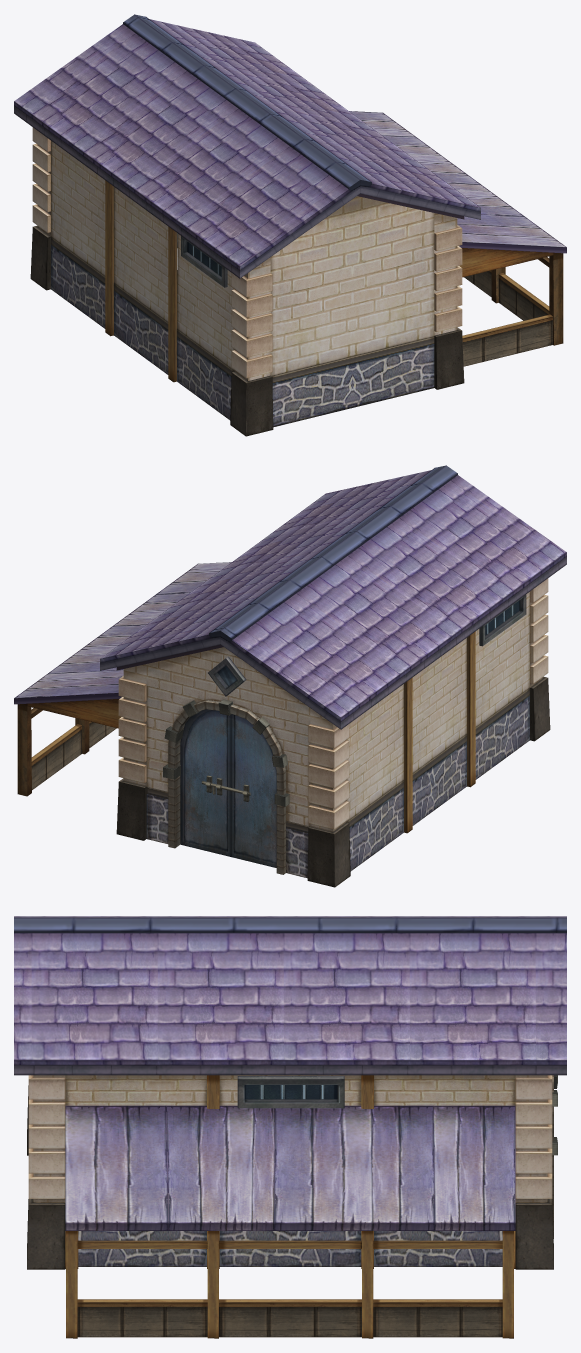
File: s_SEfarm01.glb
3 renders of one model, top to bottom at view 1: azimuth 30°, elevation 25°; view 2: azimuth 150°, elevation 25°; view 3: azimuth 270°, elevation 25°, orthographic. The views are drawn at different scales.
Parts seen in each view (by area): view 1: s_SEfarm01; view 2: s_SEfarm01; view 3: s_SEfarm01.
Part boxes in pixels (x1,y1,x2,y2): s_SEfarm01: (14, 14, 566, 436); s_SEfarm01: (14, 465, 566, 887); s_SEfarm01: (14, 916, 566, 1338).
Bounding box in the file's own units: 6.5 × 4.18 × 7.31.
Materials: 3 (3 with a texture image).
